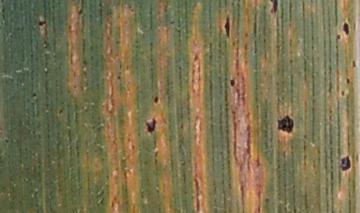tarspot: (277, 115, 293, 134), (222, 15, 232, 39), (145, 118, 156, 134), (340, 155, 351, 171), (269, 1, 279, 15), (341, 20, 350, 35), (37, 19, 47, 28), (228, 78, 236, 88), (339, 87, 347, 96), (30, 90, 38, 98), (57, 107, 65, 115), (152, 95, 159, 104), (2, 137, 10, 144), (345, 76, 351, 84), (351, 59, 357, 67), (335, 32, 341, 39), (116, 75, 122, 81)
